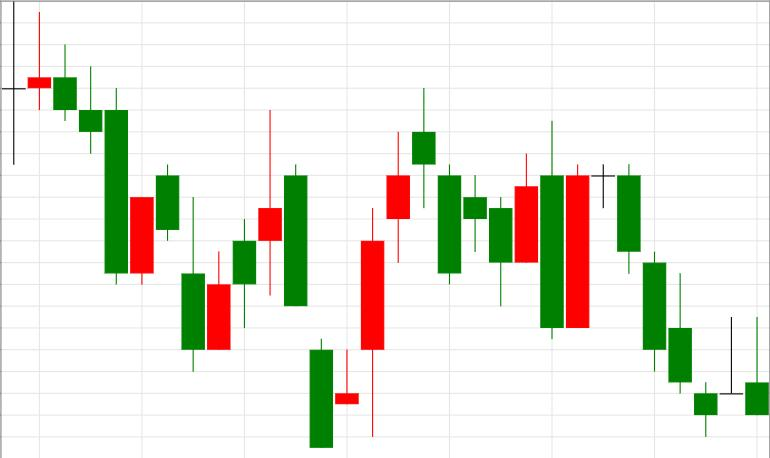evening_star_fall: (336, 89, 460, 437)
